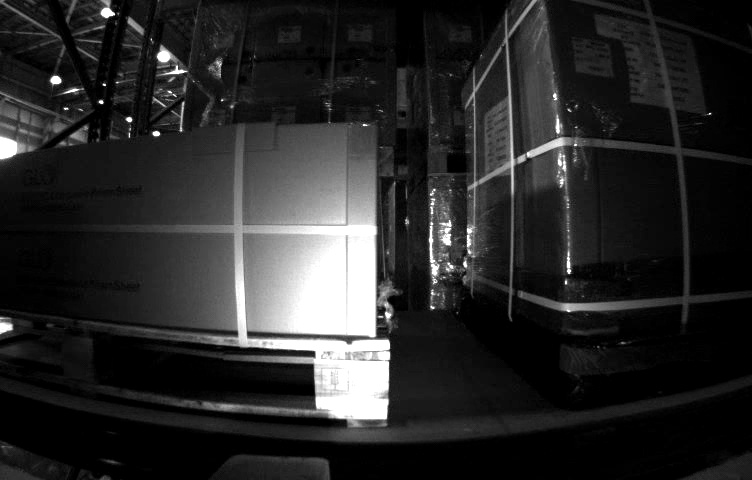True Barcode: (570, 38, 612, 75)
